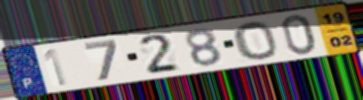0: (279, 13, 319, 57)
1: (42, 48, 69, 86)
2: (136, 33, 181, 76)
7: (81, 37, 122, 83)
8: (183, 27, 224, 68)
O: (230, 20, 280, 61)
